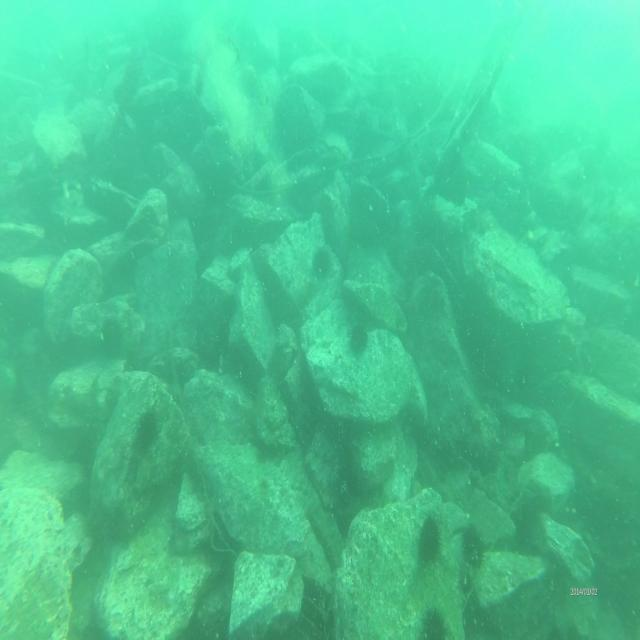echinus: (418, 506, 442, 569), (420, 600, 454, 640), (461, 517, 485, 566), (309, 243, 335, 281), (134, 406, 157, 446), (348, 317, 372, 353)
